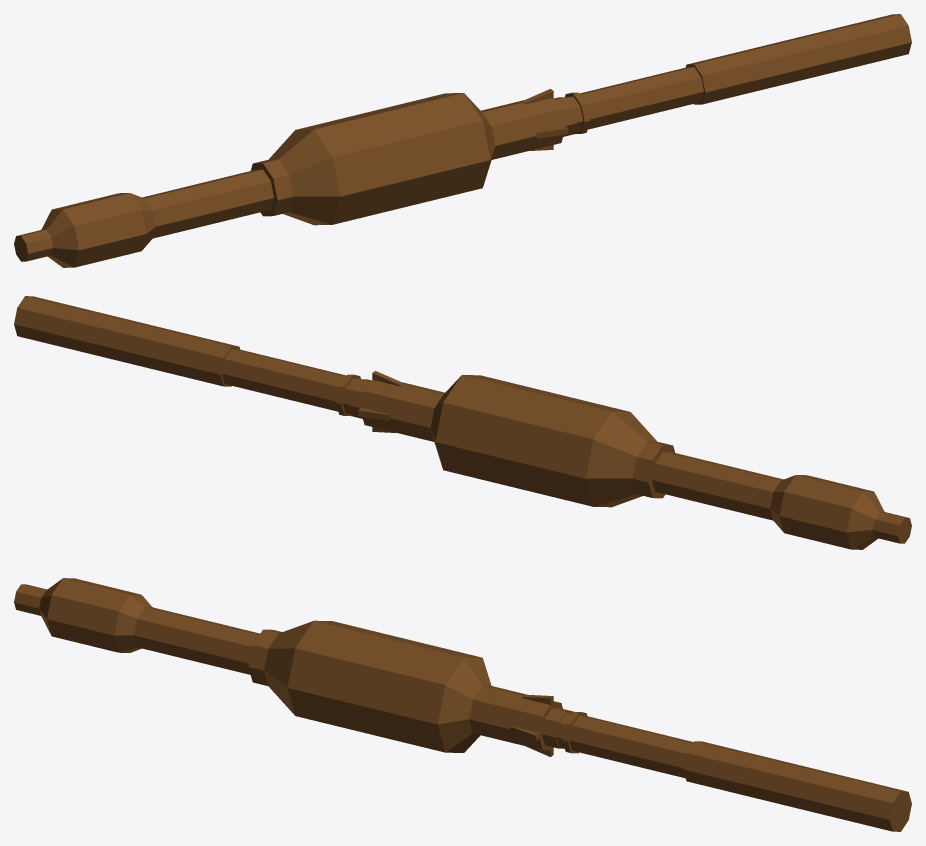
3 renders of one model, top to bottom at view 1: azimuth 30°, elevation 25°; view 2: azimuth 150°, elevation 25°; view 3: azimuth 330°, elevation 25°, orthographic.
Parts seen in each view (by area): view 1: Object_10; view 2: Object_10; view 3: Object_10.
Part boxes in pixels (x1,y1,x2,y2): Object_10: (14, 14, 911, 267); Object_10: (14, 296, 911, 549); Object_10: (14, 578, 911, 831).
Size of the model in its own units: 10.07 by 1.05 by 1.05.
